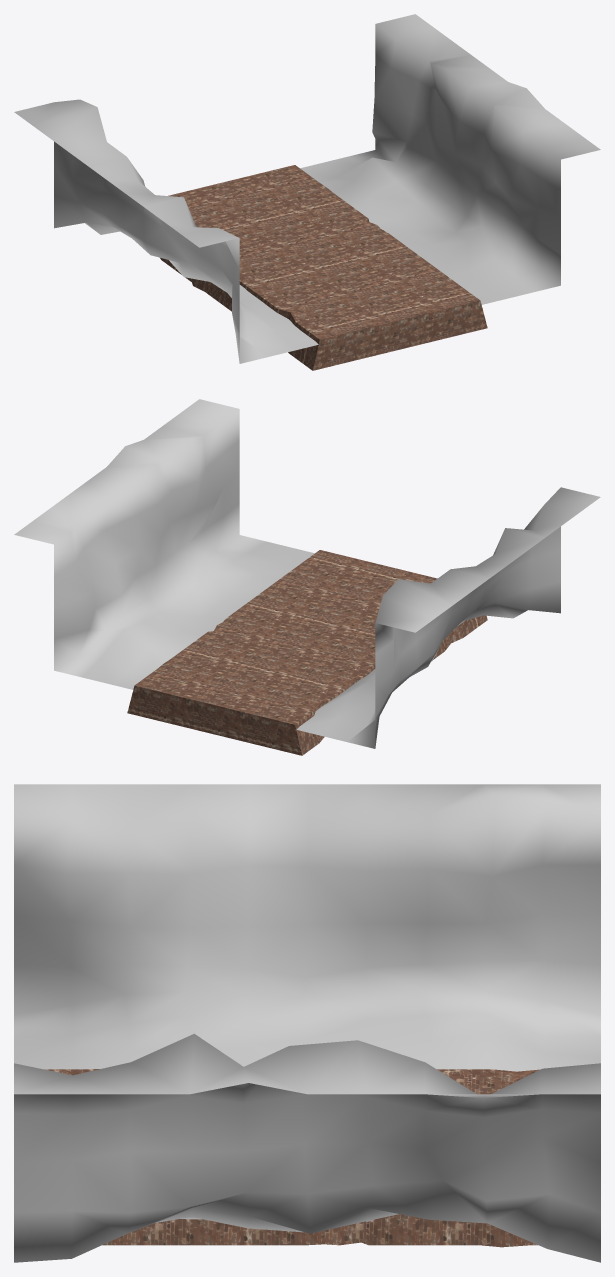
Rendered from tile_natural2tilted.fbx.
3 views of the same model, one above another, from view 1: azimuth 30°, elevation 25°; view 2: azimuth 150°, elevation 25°; view 3: azimuth 270°, elevation 25° (orthographic). The views are drawn at different scales.
Parts seen in each view (by area): view 1: tilenatural2tilted; view 2: tilenatural2tilted; view 3: tilenatural2tilted.
Boxes of the visible parts, x1,y1,x2,y2 form: tilenatural2tilted: (14, 14, 600, 370); tilenatural2tilted: (14, 399, 600, 755); tilenatural2tilted: (14, 784, 600, 1262).
Size of the model in its own units: 5000 by 4000 by 1998.
